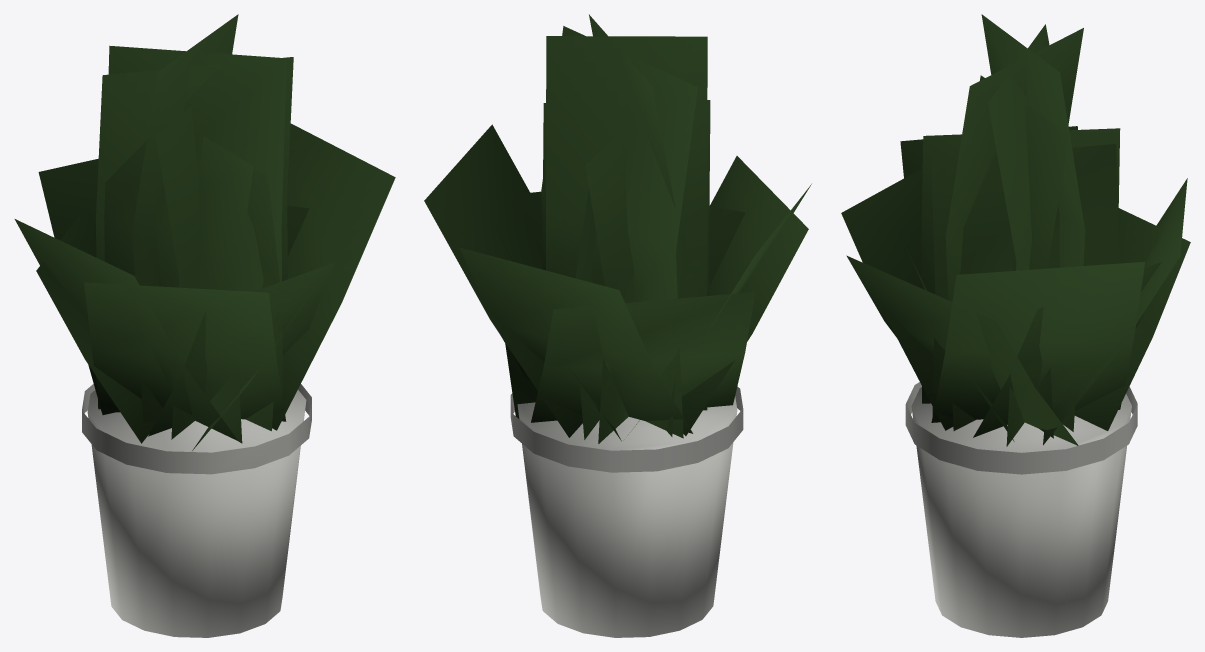
The model's file is veg.houseplant.mo.glb.
The picture shows the model from 3 angles, left to right: view 1: azimuth 30°, elevation 25°; view 2: azimuth 150°, elevation 25°; view 3: azimuth 270°, elevation 25°; orthographic projection.
Visible parts, largest first — view 1: v0_LOD0; view 2: v0_LOD0; view 3: v0_LOD0.
Part boxes in pixels (<box>): v0_LOD0: <box>14,14,395,637</box>; v0_LOD0: <box>424,14,811,637</box>; v0_LOD0: <box>841,14,1190,637</box>.
Size of what is drawn, in the model's own units: 0.7718 by 1.29 by 0.7297.
